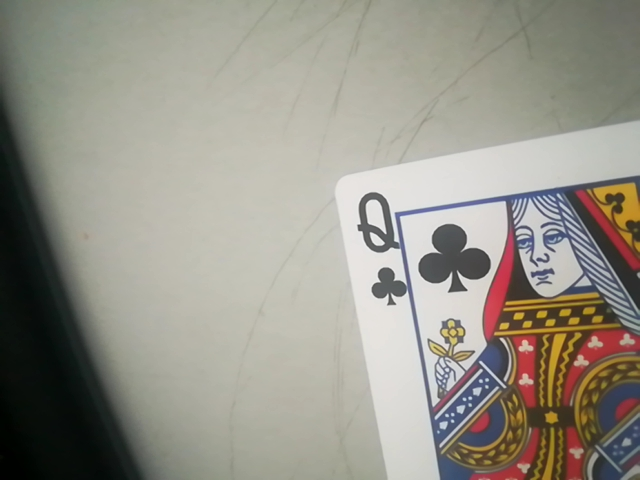mh q: (327, 84, 637, 480)
